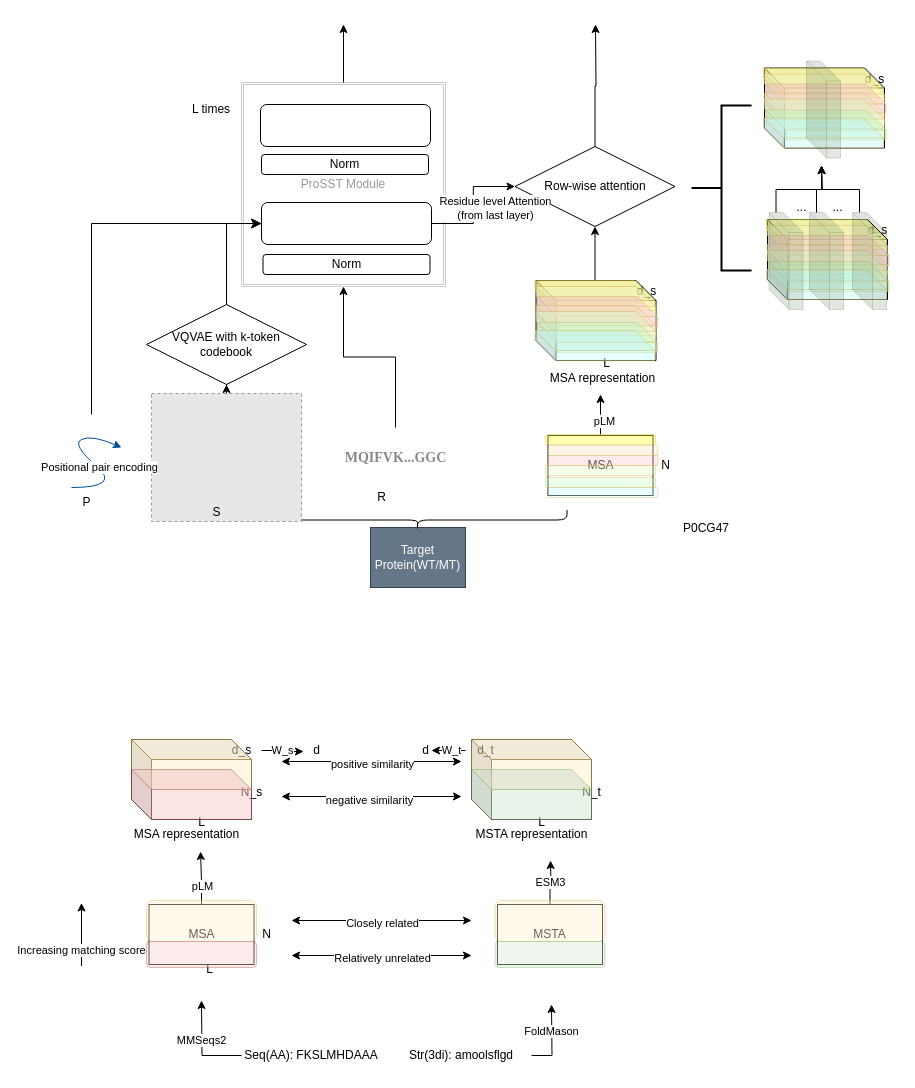
Some shapes in this 915 by 1088 pixel diagram are drawn without their labels. Grey dashed boxes stand in for pictures. Here are the shapes that lost their labels. From the top down, the centre of each, then its label:
At pixel 345 125: "Feed Forward Net".
At pixel 346 223: "Disentangled cross attention (between P, S, R)".
